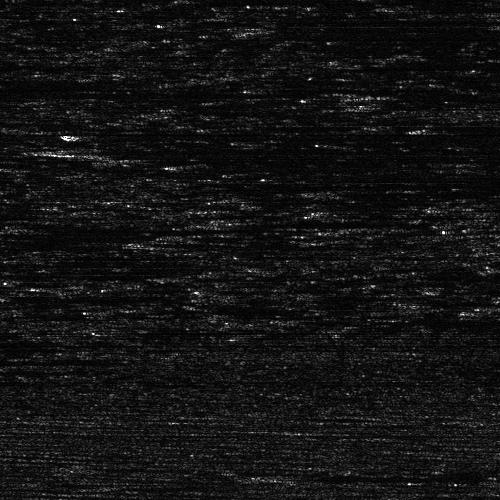rock: (8, 141, 91, 158), (176, 218, 301, 225), (224, 471, 307, 480), (126, 240, 199, 247), (0, 291, 42, 302), (154, 162, 227, 167)
shadow: (50, 141, 324, 158), (0, 291, 168, 302), (266, 471, 441, 480), (163, 240, 347, 247), (0, 367, 134, 372), (239, 218, 333, 225), (0, 241, 56, 250), (191, 162, 286, 167), (82, 132, 173, 135), (0, 358, 49, 363), (0, 232, 64, 235)
